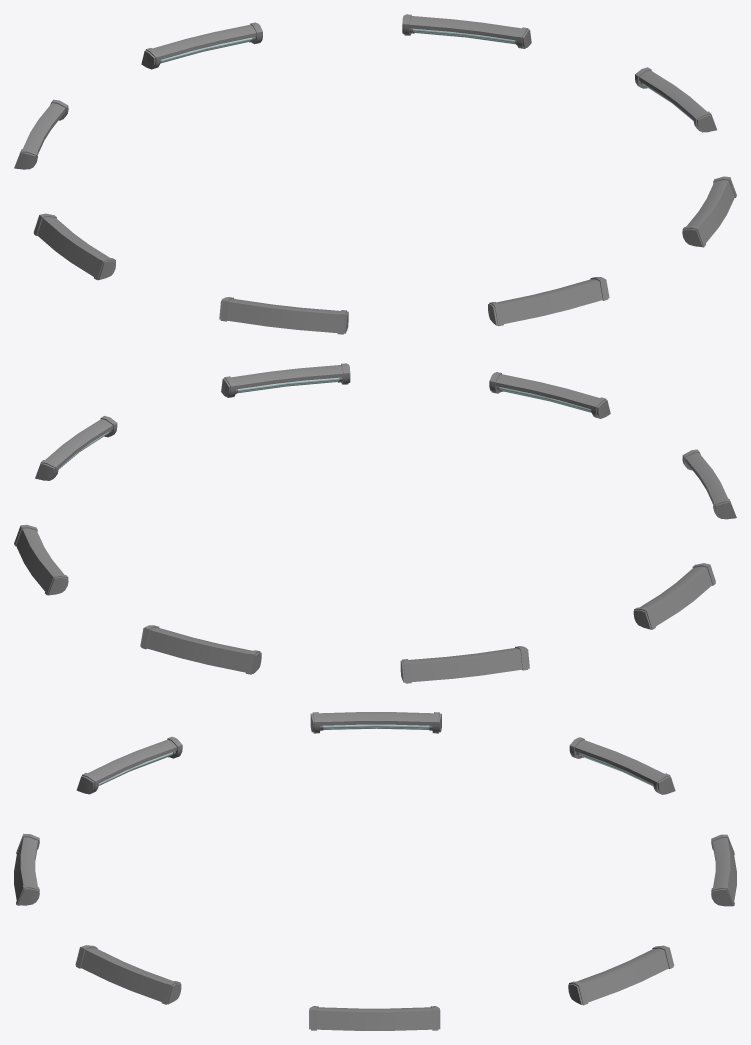
File: Room_PowerChamber_Lights.fbx
The picture shows the model from 3 angles, top to bottom: view 1: azimuth 30°, elevation 25°; view 2: azimuth 150°, elevation 25°; view 3: azimuth 270°, elevation 25°; orthographic projection.
Visible parts, largest first — view 1: Lights; view 2: Lights; view 3: Lights.
Boxes of the visible parts, x1,y1,x2,y2 form: Lights: [14, 14, 736, 334]; Lights: [14, 363, 736, 683]; Lights: [14, 712, 736, 1030].
Bounding box in the file's own units: 2480 × 69.34 × 2480.
